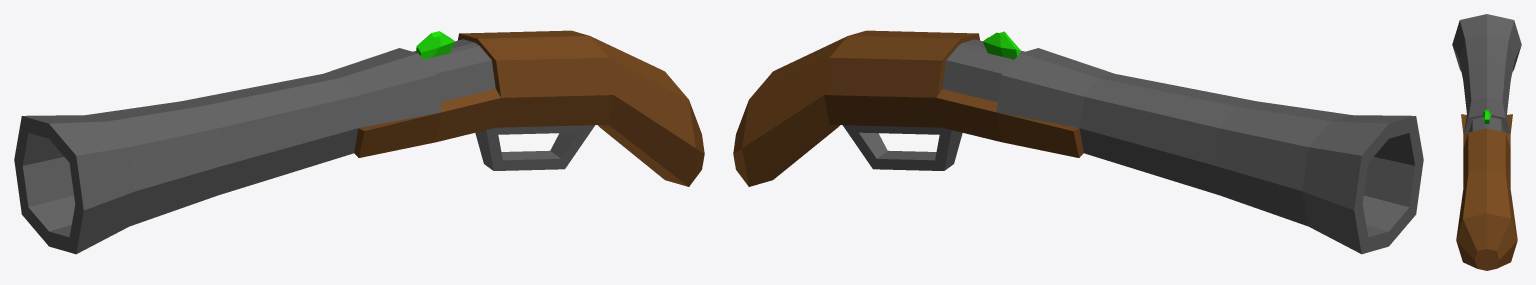
The model's file is LowPoly_Gun_Pirate_01.fbx.
The picture shows the model from 3 angles, left to right: view 1: azimuth 30°, elevation 25°; view 2: azimuth 150°, elevation 25°; view 3: azimuth 270°, elevation 25°; orthographic projection. The views are drawn at different scales.
Parts seen in each view (by area): view 1: Gun; view 2: Gun; view 3: Gun.
Boxes of the visible parts, <box> form: Gun: <box>14,30,704,254</box>; Gun: <box>733,30,1423,254</box>; Gun: <box>1452,14,1521,270</box>.
Bounding box in the file's own units: 372 × 114 × 69.78.
